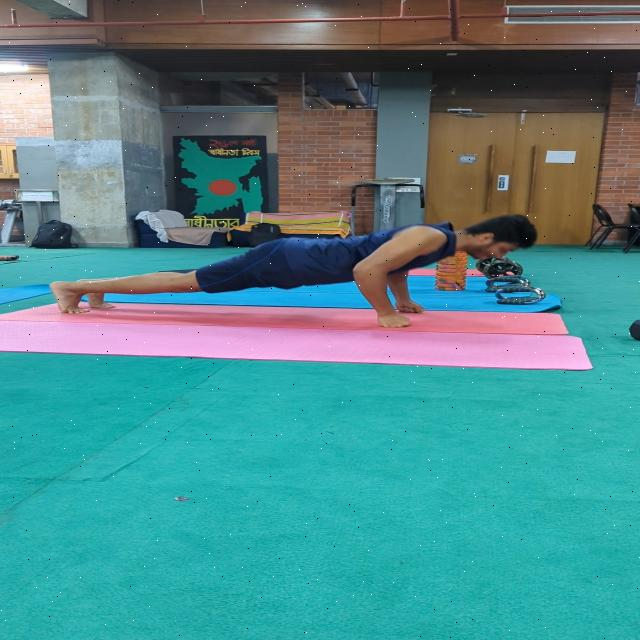Normal_PushUps: (51, 207, 536, 335)
